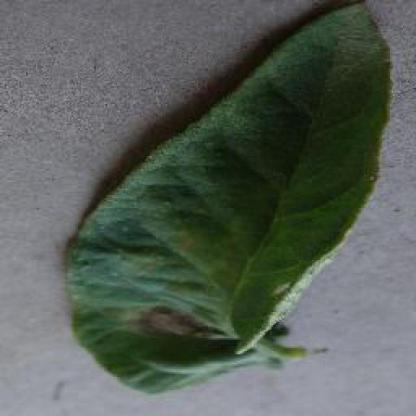Tomato_Blight: (68, 5, 391, 394)
